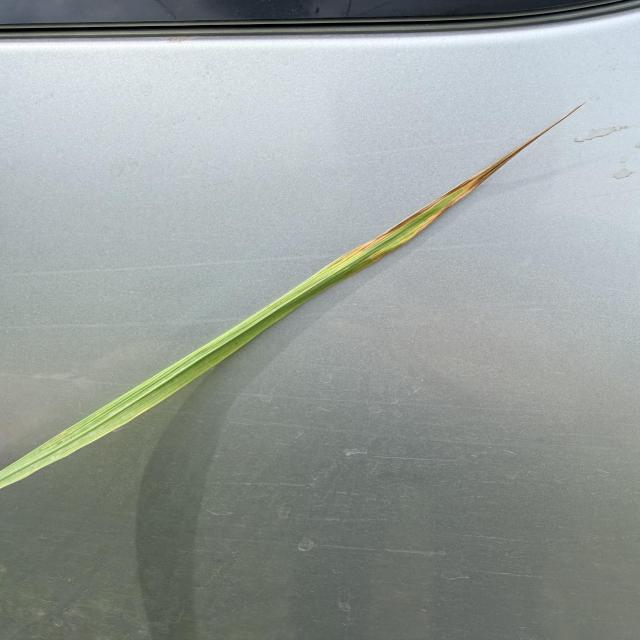Chay bia la: (330, 102, 587, 269)
